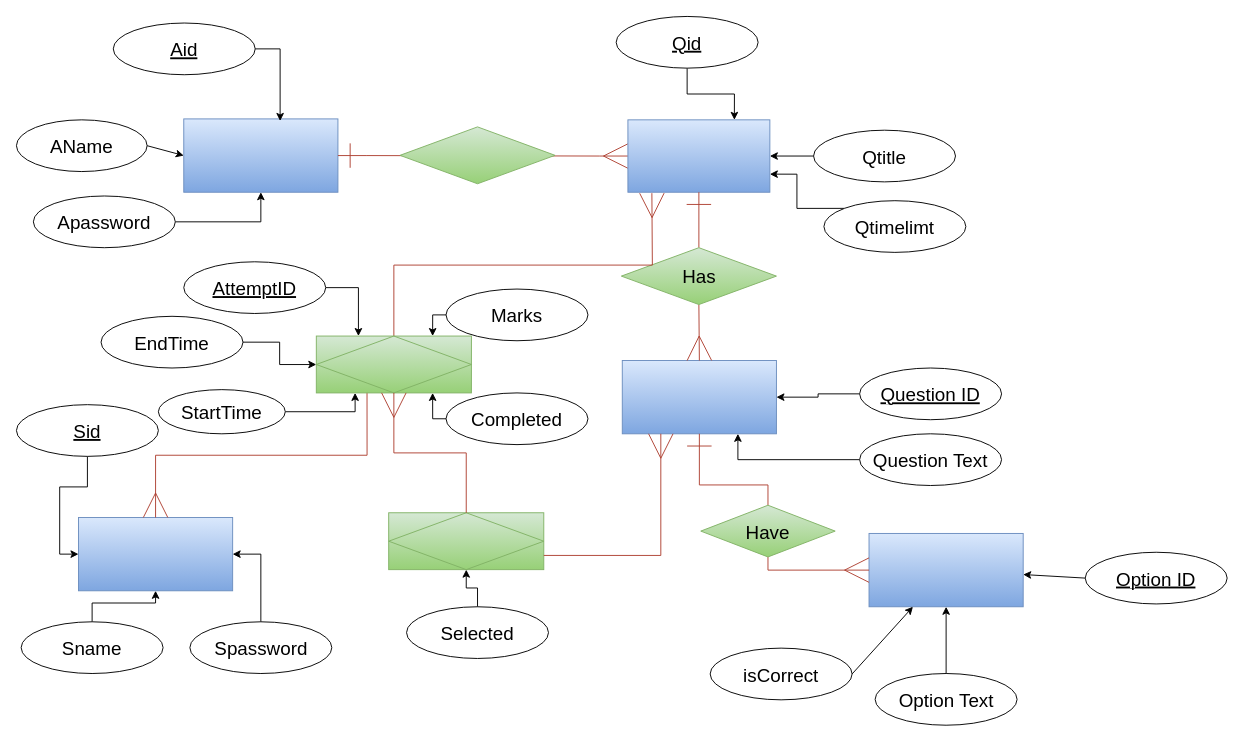
This 1244x742 diagram has some shape labels left out. Here are the shapes that lost their labels. From the top down, the centre of each, then its label:
the point at 260,155: Admin
the point at 477,155: Creates
the point at 698,155: Quiz
the point at 393,364: Attempts
the point at 698,397: Question
the point at 155,554: Student
the point at 466,541: Response
the point at 945,570: Option
